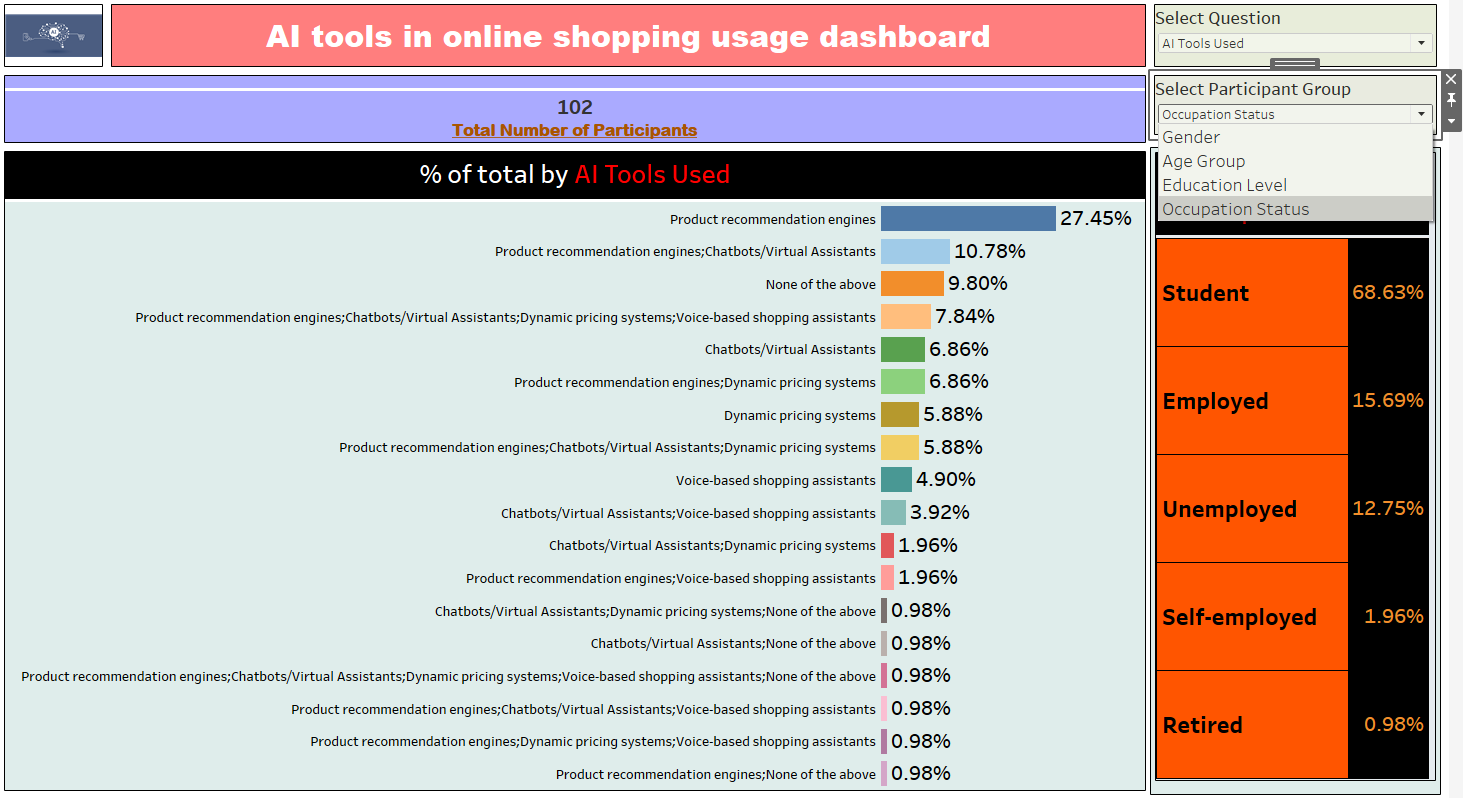

What the dashboard file says about the page in this screenshot:
{"tool":"tableau","page":{"name":"Dashboard","canvas":[1000,1000],"units":"permille","ordinal":0},"visuals":[{"type":"image","param":"Image/images.png","box":[4.2,9.9,77.9,87.5]},{"type":"text","box":[82.1,9.9,759.5,87.5]},{"type":"parameter","param":"[Parameters].[Parameter 1]","box":[841.6,9.9,154.1,87.5]},{"type":"worksheet","title":"Total No of Participants","mark":"Automatic","box":[4.2,97.4,837.4,93.7]},{"type":"parameter","param":"[Parameters].[Parameter 2]","box":[841.6,97.4,154.1,83.8]},{"type":"worksheet","title":"Parameter by % of total","mark":"Automatic","rows":["Calculation_699183897261547525"],"cols":["The Influence of AI in E-Commerce.csv_0D54B13139EB4AE488B1F7"],"box":[4.2,191.1,837.4,799]},{"type":"worksheet","title":"Participant Group","mark":"Automatic","rows":["Calculation_665969855279251457"],"box":[842.2,192.3,153.1,785.5]}]}

Visuals, with their boxes on the dashboard's canvas, which has no fixed pixel size, in thousandths of its width and height (x1, y1, x2, y2). These are canvas units, not pixel positions in the 1463x798 screenshot, which may show the page scaled, cropped or inside an application window:
image: (x1=4, y1=10, x2=82, y2=97)
text: (x1=82, y1=10, x2=842, y2=97)
parameter: (x1=842, y1=10, x2=996, y2=97)
"Total No of Participants" worksheet: (x1=4, y1=97, x2=842, y2=191)
parameter: (x1=842, y1=97, x2=996, y2=181)
"Parameter by % of total" worksheet: (x1=4, y1=191, x2=842, y2=990)
"Participant Group" worksheet: (x1=842, y1=192, x2=995, y2=978)
